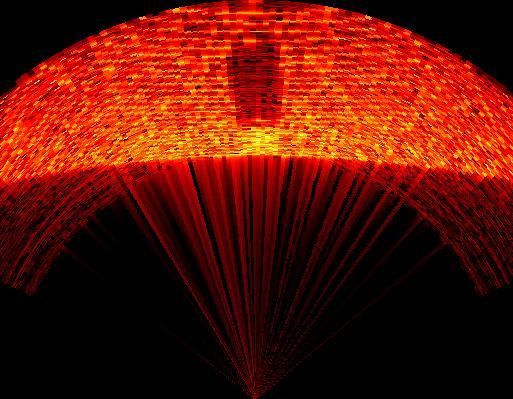box_crate: (225, 44, 282, 128)
